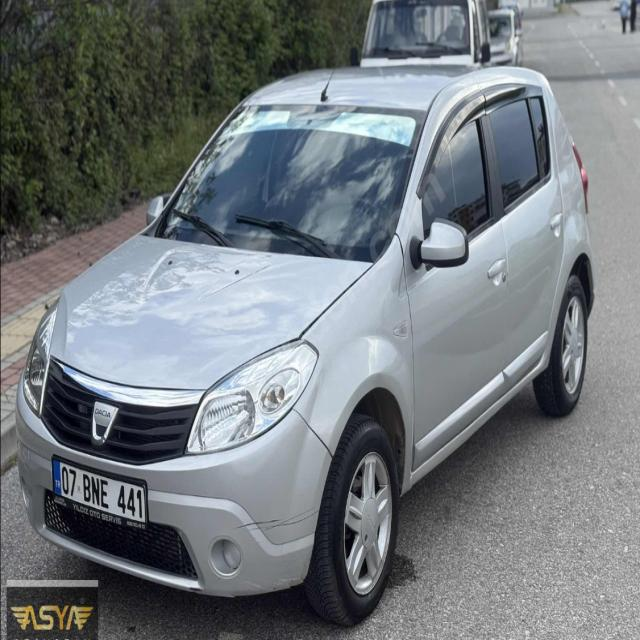dacia: (89, 395, 118, 450)
